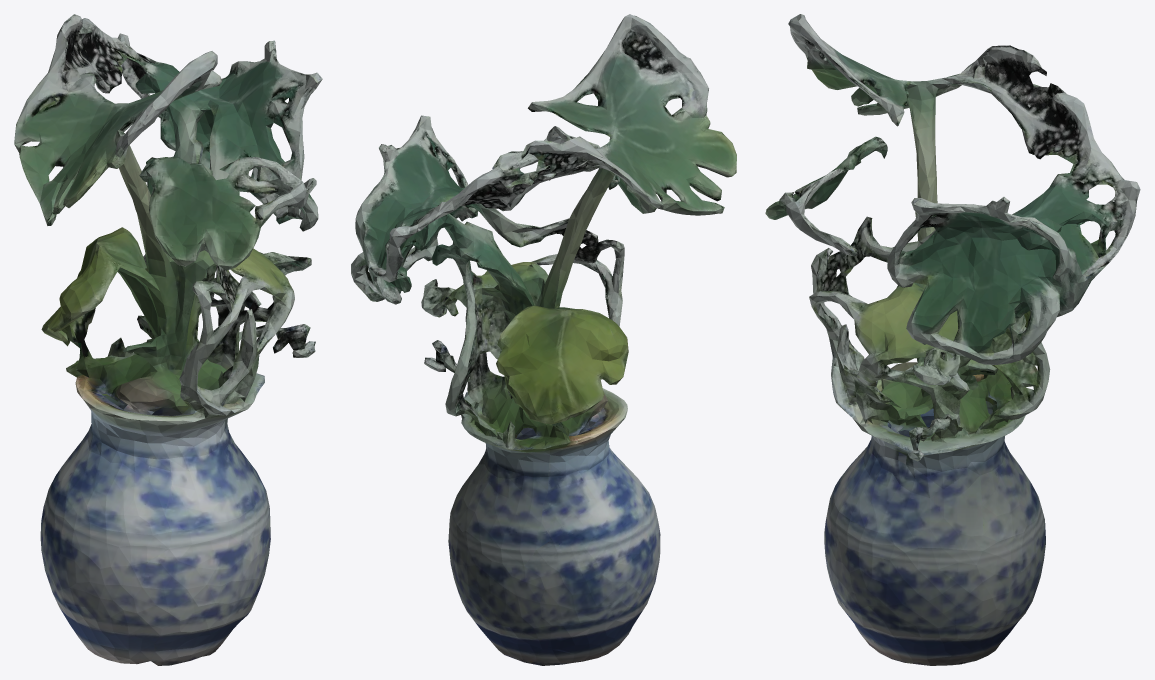
File: ast_3db63d01c4b9.glb
3 renders of one model, left to right at view 1: azimuth 30°, elevation 25°; view 2: azimuth 150°, elevation 25°; view 3: azimuth 270°, elevation 25°, orthographic. The views are drawn at different scales.
Visible parts, largest first — view 1: geometry_0; view 2: geometry_0; view 3: geometry_0.
Part boxes in pixels (x1,y1,x2,y2): geometry_0: (14, 14, 322, 665); geometry_0: (351, 14, 736, 665); geometry_0: (765, 14, 1140, 665).
Bounding box in the file's own units: 0.4193 × 0.8218 × 0.4529.
1 material, 1 textured.
